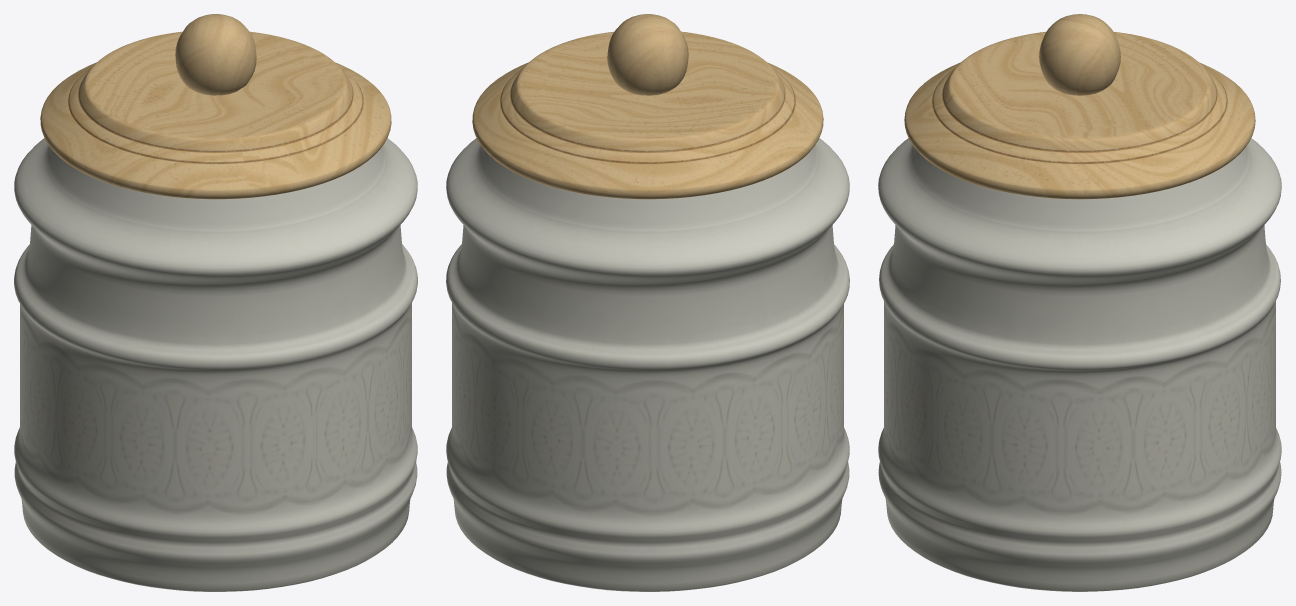
3 renders of one model, left to right at view 1: azimuth 30°, elevation 25°; view 2: azimuth 150°, elevation 25°; view 3: azimuth 270°, elevation 25°, orthographic.
Visible parts, largest first — view 1: RootNode; view 2: RootNode; view 3: RootNode.
Part boxes in pixels (x1,y1,x2,y2): RootNode: [14, 14, 417, 591]; RootNode: [446, 14, 849, 591]; RootNode: [878, 14, 1281, 591].
Size of the model in its own units: 0.13 by 0.1765 by 0.1297.
1 material, 1 textured.
